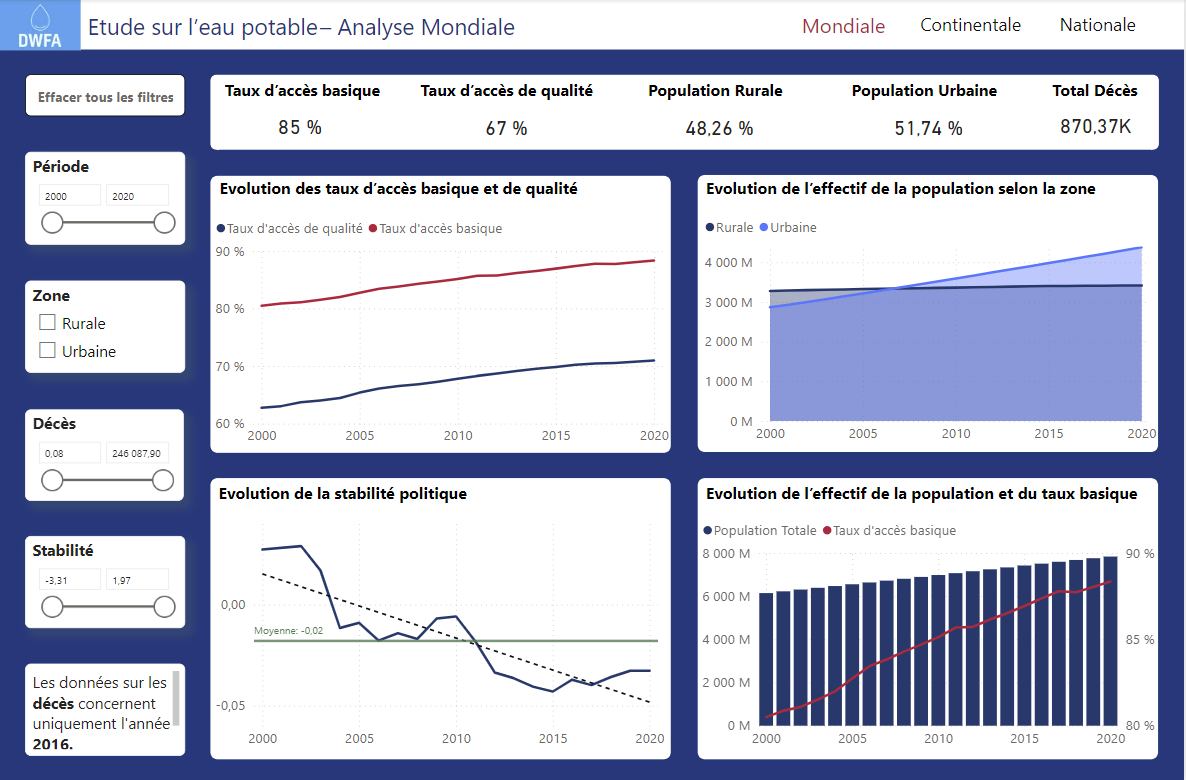

The dashboard page shown, as its layout file describes it:
{"tool":"powerbi","page":{"name":"Mondiale","canvas":[1408,930],"ordinal":0},"visuals":[{"type":"slicer","title":"Stabilité","fields":{"Values":["Dim_Stabilite.Stabilité"]},"box":[29.5,638.4,190.7,110],"z":0},{"type":"slicer","title":"Zone","fields":{"Values":["Data_Zone.Zone"]},"box":[29.5,335.1,190.7,110],"z":1000},{"type":"areaChart","fields":{"Category":["Dim_Calendrier.Annee"],"Y":["Data_Zone.Population (R/U)"],"Series":["Data_Zone.Zone"]},"box":[831.4,249.1,548,288.6],"z":2000},{"type":"actionButton","box":[30,90,190,50],"z":3000},{"type":"pageNavigator","box":[931.7,0,445,60],"z":4000},{"type":"lineChart","fields":{"Category":["Dim_Calendrier.Annee"],"Y":["Data_Total.Avg Taux d'accès de qualité (%)","Data_Total.Avg Taux d'accès basique (%)"]},"box":[250.8,250.8,549.7,290.3],"z":5000},{"type":"slicer","title":"Période","fields":{"Values":["Dim_Calendrier.Année"]},"box":[29.5,182.1,190.7,110.9],"z":6000},{"type":"lineChart","title":"Evolution stabilité","fields":{"Category":["Dim_Calendrier.Annee"],"Y":["Data_Total.Avg Stabilité"]},"box":[250.8,609.8,544.5,290.3],"z":7000},{"type":"card","fields":{"Values":["Data_Total.Avg Taux d'accès basique (%)"]},"box":[296.9,125.8,119.6,49.5],"z":8000},{"type":"card","fields":{"Values":["Data_Total.Avg Taux d'accès de qualité (%)"]},"box":[542.6,126.7,119.6,48.5],"z":9000},{"type":"card","fields":{"Values":["Data_Zone.% Population Rurale"]},"box":[795.7,126.7,119.6,48.5],"z":10000},{"type":"card","fields":{"Values":["Data_Zone.% Population Urbaine"]},"box":[1043.6,126.7,119.6,48.5],"z":11000},{"type":"card","fields":{"Values":["Data_2016.Total Décès"]},"box":[1243,125,119.6,50.3],"z":12000},{"type":"textbox","title":"A noter :","box":[29.5,790.5,190.7,109.2],"z":13000},{"type":"lineClusteredColumnComboChart","fields":{"Category":["Dim_Calendrier.Annee"],"Y2":["Data_Total.Avg Taux d'accès basique (%)"],"Y":["Data_Total.Population"]},"box":[829,610,549,290],"z":14000},{"type":"slicer","title":"Décès","fields":{"Values":["Data_2016.Décès"]},"box":[29.5,487.2,189,109.2],"z":15000}]}

Visuals, with their boxes in screenshot pixels (x1, y1, x2, y2), scaled from the page's 1408x930 canvas onto the 1186x780 screenshot:
"Stabilité" slicer: 25,535,185,628
"Zone" slicer: 25,281,185,373
areaChart - Dim_Calendrier.Annee x Data_Zone.Population (R/U): 700,209,1162,451
actionButton: 25,75,185,117
pageNavigator: 785,0,1160,50
lineChart - Dim_Calendrier.Annee x Data_Total.Avg Taux d'accès de qualité (%): 211,210,674,454
"Période" slicer: 25,153,185,246
"Evolution stabilité" lineChart: 211,511,670,755
card - Data_Total.Avg Taux d'accès basique (%): 250,106,351,147
card - Data_Total.Avg Taux d'accès de qualité (%): 457,106,558,147
card - Data_Zone.% Population Rurale: 670,106,771,147
card - Data_Zone.% Population Urbaine: 879,106,980,147
card - Data_2016.Total Décès: 1047,105,1148,147
"A noter :" textbox: 25,663,185,755
lineClusteredColumnComboChart - Dim_Calendrier.Annee x Data_Total.Avg Taux d'accès basique (%): 698,512,1161,755
"Décès" slicer: 25,409,184,500
